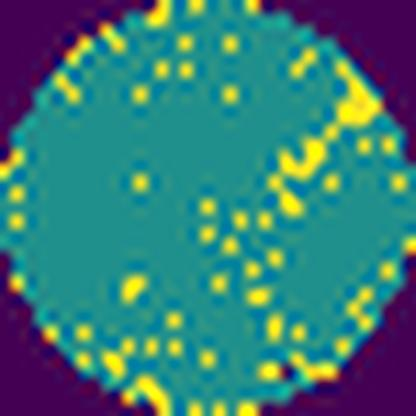Loc: (270, 60, 385, 217)
